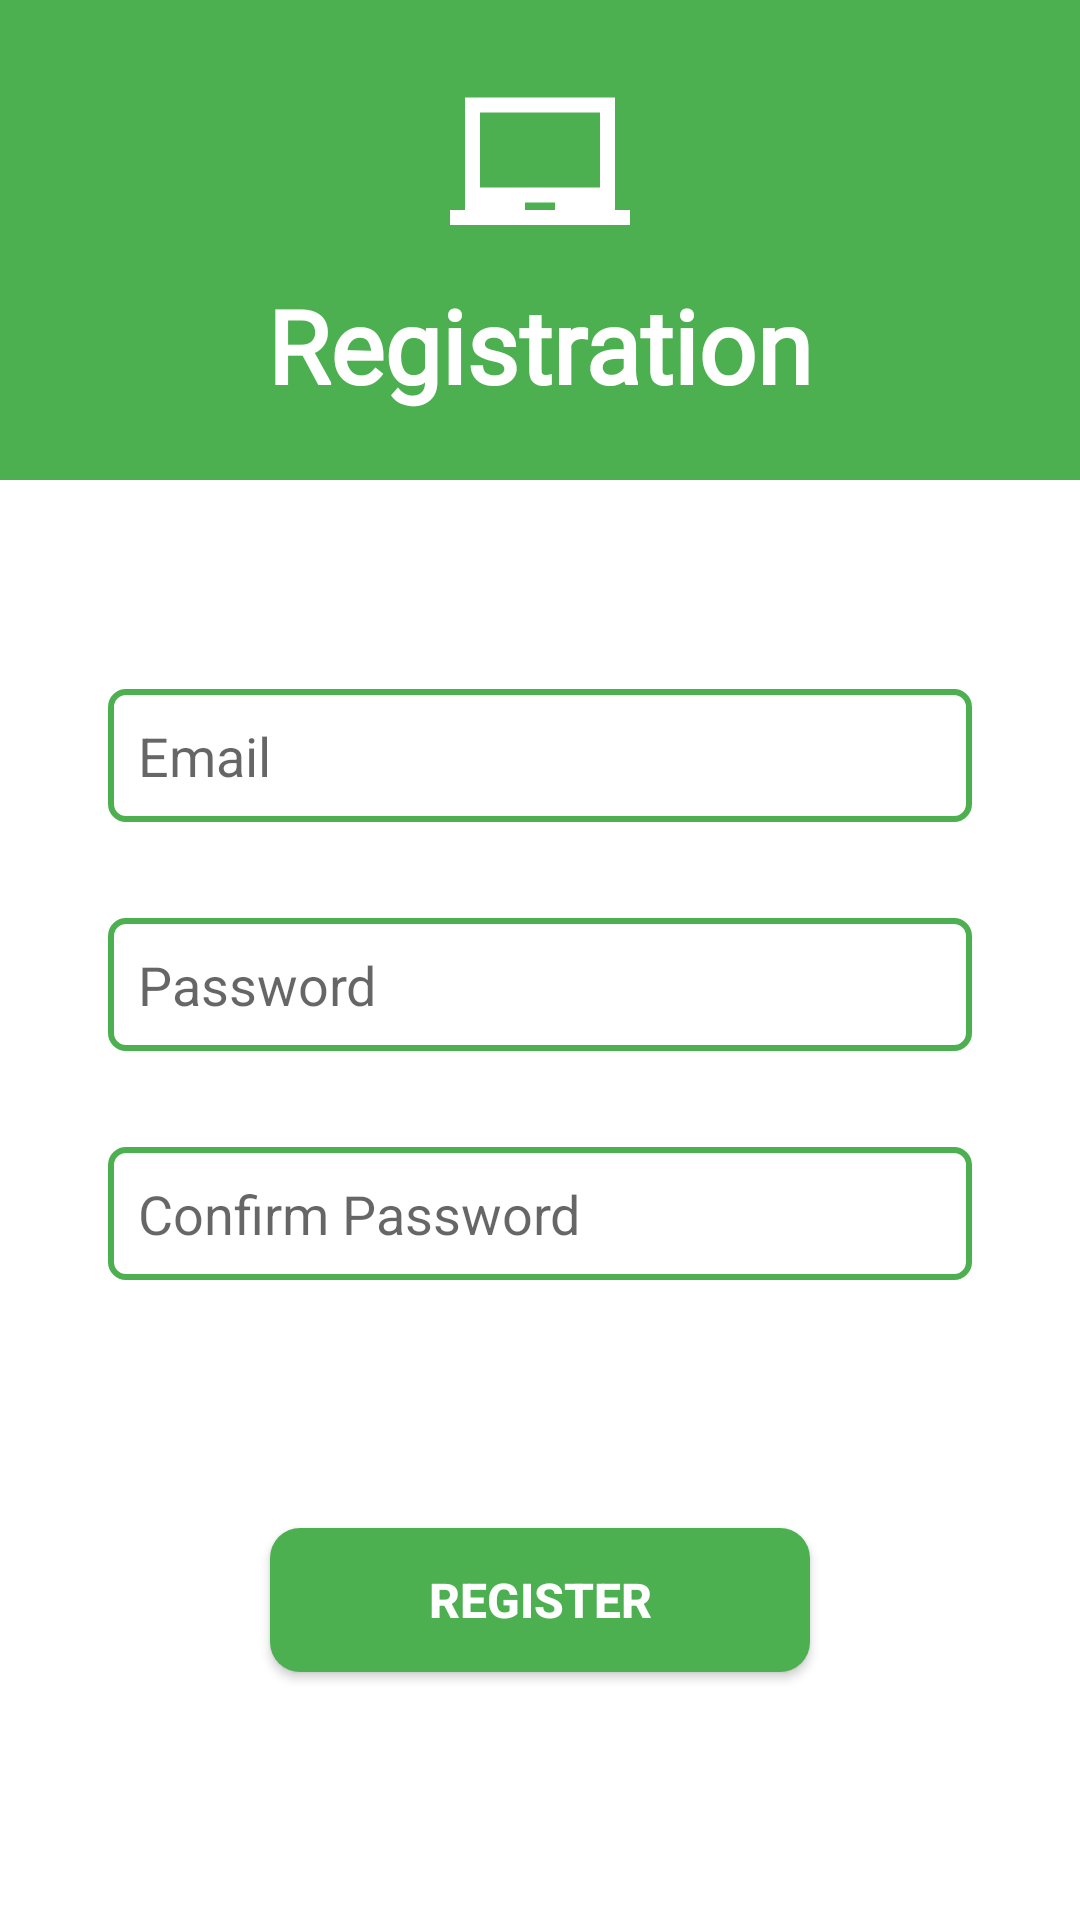

Icon bounding boxes for this 1080 × 1920 phone screenshot, format bbox(x1, y1, x2, y2):
laptop chromebook: bbox(450, 97, 630, 225)
